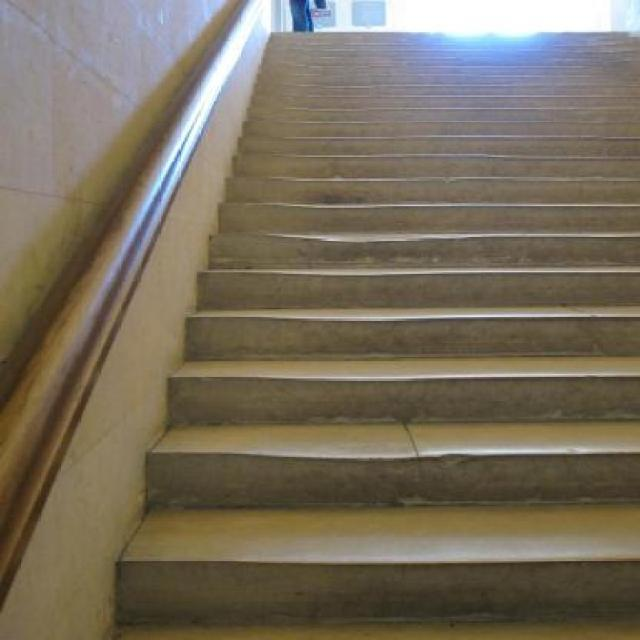stair: (112, 31, 640, 640)
